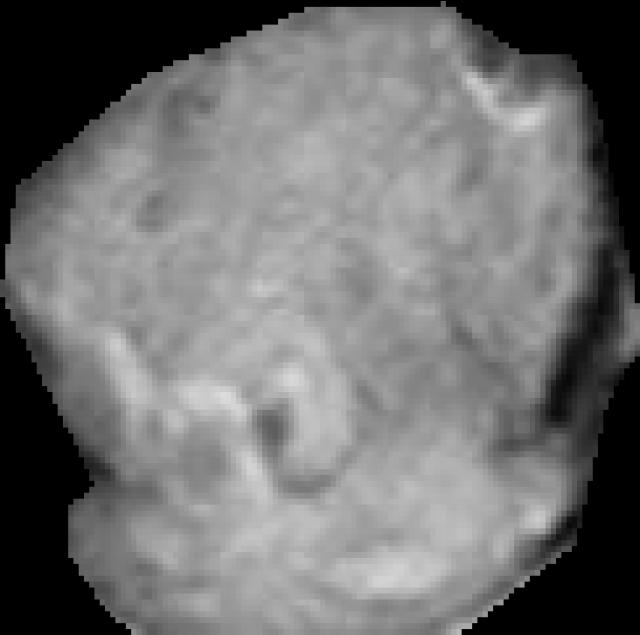tumor_good_chance: (0, 1, 640, 635)
